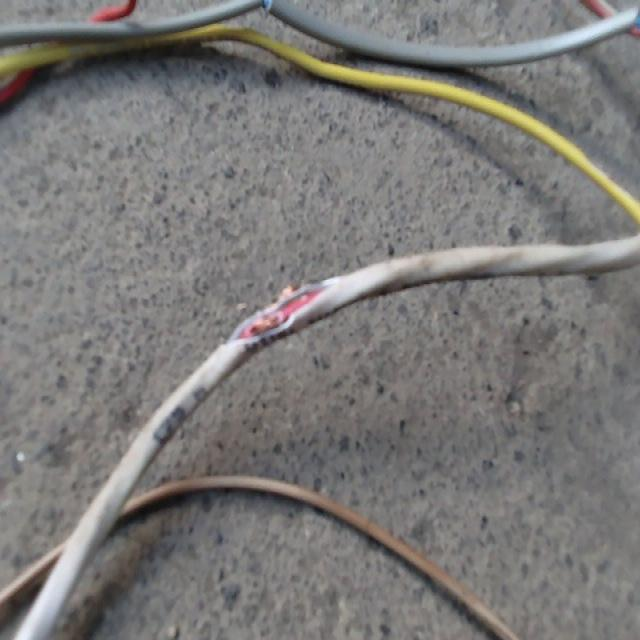-: (230, 281, 332, 332)
